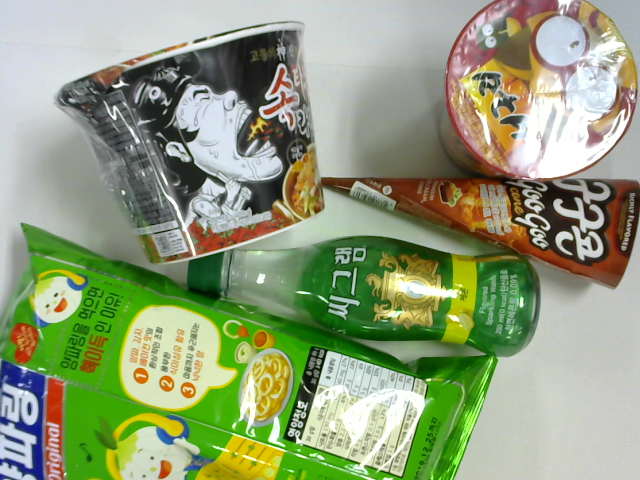GooGoo_Cone_CVS: (305, 173, 640, 290)
HeJangsock: (57, 19, 324, 264)
Oninon_Ring: (1, 225, 497, 480)
Raccoon: (442, 1, 639, 184)
Seagram_Lemon_Carbonated_Water: (185, 236, 538, 358)
